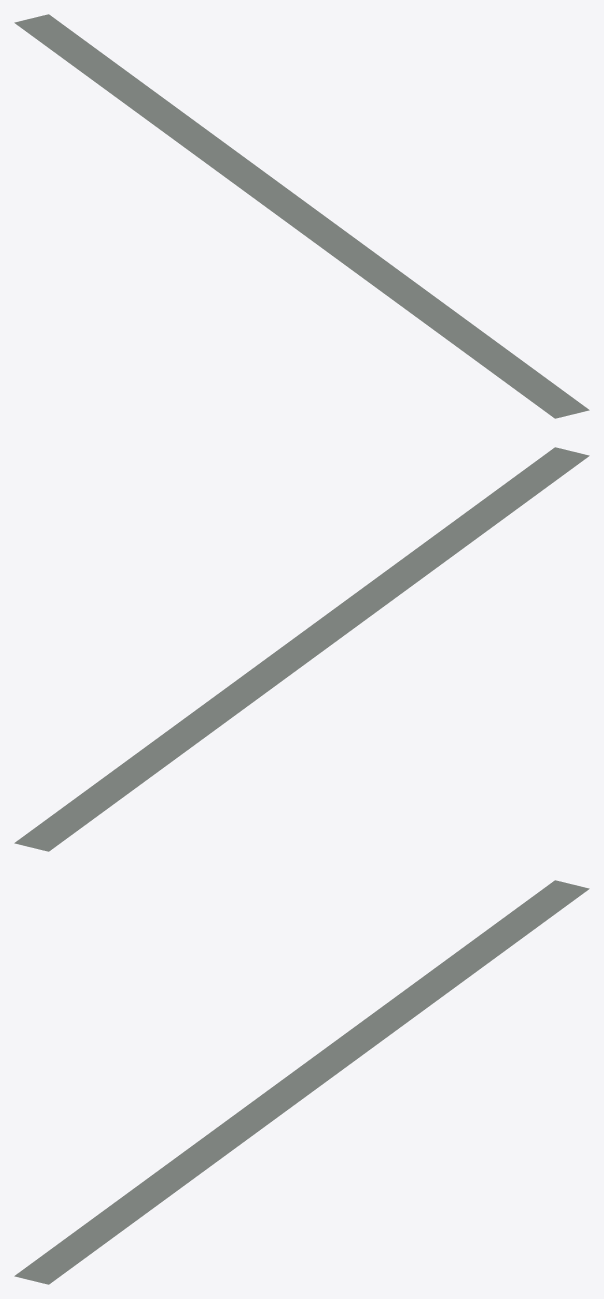
File: kd_stage_135b75_4_93_bounded_piece_2.glb
The picture shows the model from 3 angles, top to bottom: view 1: azimuth 30°, elevation 25°; view 2: azimuth 150°, elevation 25°; view 3: azimuth 330°, elevation 25°; orthographic projection.
Visible parts, largest first — view 1: kd_stage_135b75_4_93_bounded_piece_2; view 2: kd_stage_135b75_4_93_bounded_piece_2; view 3: kd_stage_135b75_4_93_bounded_piece_2.
Boxes of the visible parts, box(x1,y1,x2,y2) form: kd_stage_135b75_4_93_bounded_piece_2: box(14, 14, 589, 418); kd_stage_135b75_4_93_bounded_piece_2: box(14, 447, 589, 851); kd_stage_135b75_4_93_bounded_piece_2: box(14, 880, 589, 1284).
Bounding box in the file's own units: 0.03 × 1.19e-07 × 0.8066.
Materials: 1 (1 with a texture image).
